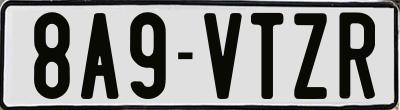8: (33, 9, 71, 98)
9: (129, 11, 170, 98)
A: (79, 11, 122, 97)
R: (338, 11, 376, 103)
T: (250, 11, 286, 102)
V: (201, 11, 241, 97)
Z: (291, 10, 326, 97)
